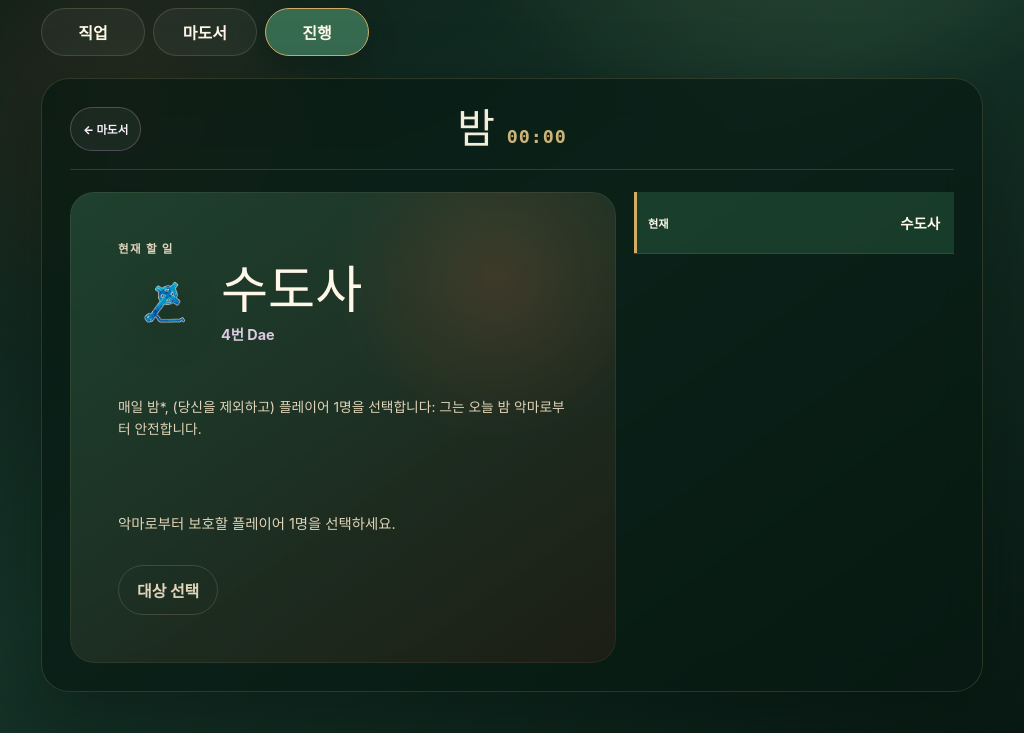
it: uses semantic labels for the monk target
(page scrolled)
Click the button "대상 선택". click: [168, 590]
box: [118,565,218,615]
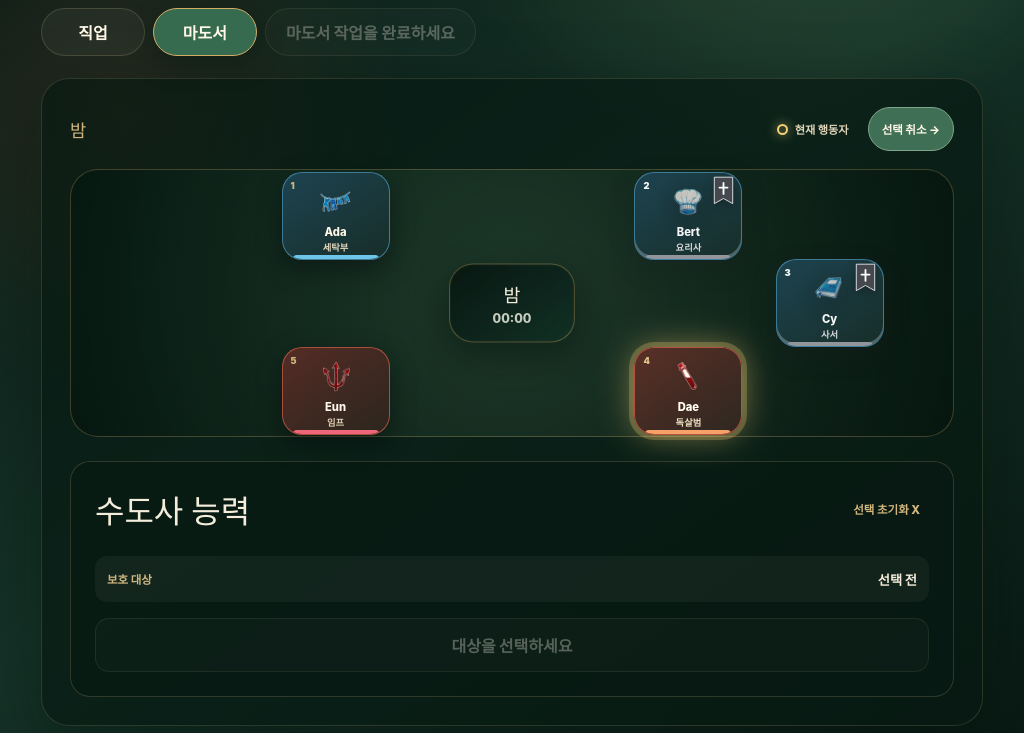
Click the button with aria-label "1번 좌석, Ada". click: [336, 216]
box: [282,172,390,260]
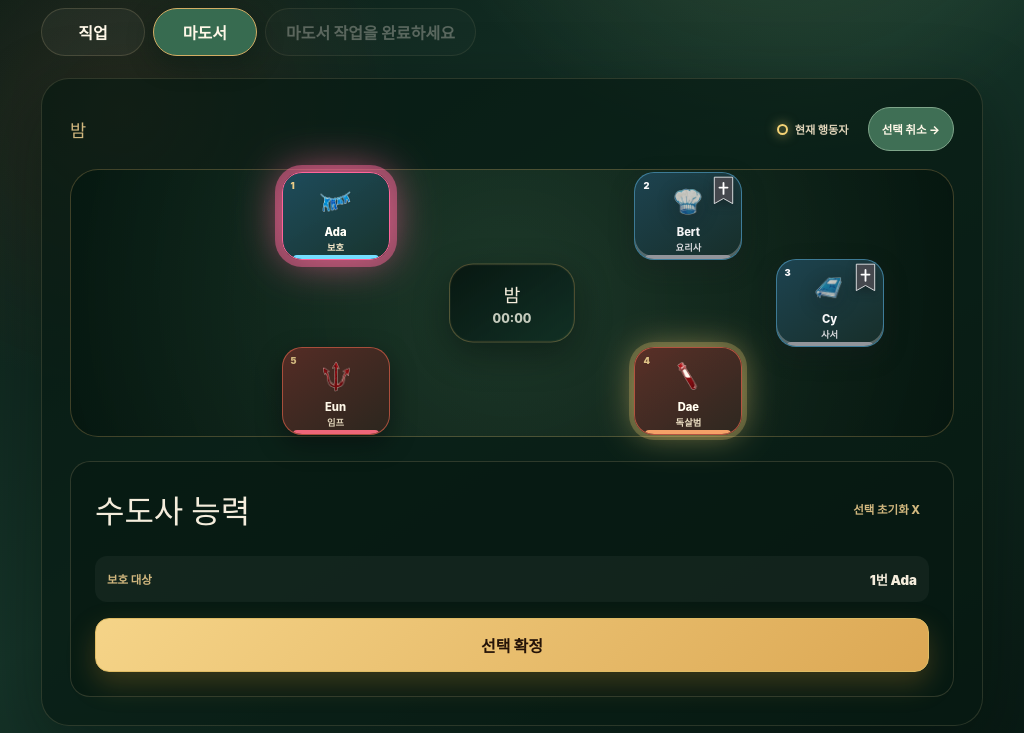
Check: the heading "수도사 능력" is shown, box [95,486,250,532]
Check: the text "보호 대상" is shown, box [107,571,152,587]
Check: the text "보호" is shown, box [327,242,344,253]
